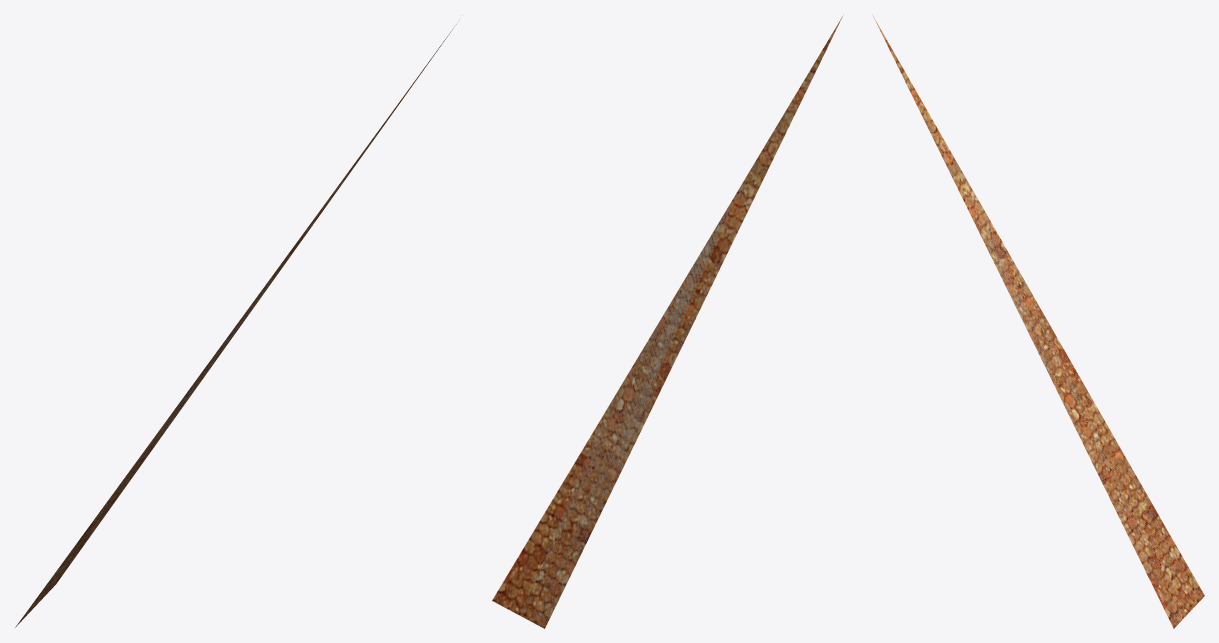
Rendered from 西庸城堡156.dae.
The picture shows the model from 3 angles, left to right: view 1: azimuth 90°, elevation 25°; view 2: azimuth 150°, elevation 25°; view 3: azimuth 270°, elevation 25°; orthographic projection. The views are drawn at different scales.
Visible parts, largest first — view 1: SketchUp; view 2: SketchUp; view 3: SketchUp.
Part boxes in pixels (left/top/right/bottom): SketchUp: left=15, top=24, right=456, bottom=627; SketchUp: left=492, top=16, right=842, bottom=628; SketchUp: left=873, top=16, right=1204, bottom=628.
Size of the model in its own units: 110 by 160 by 276.
